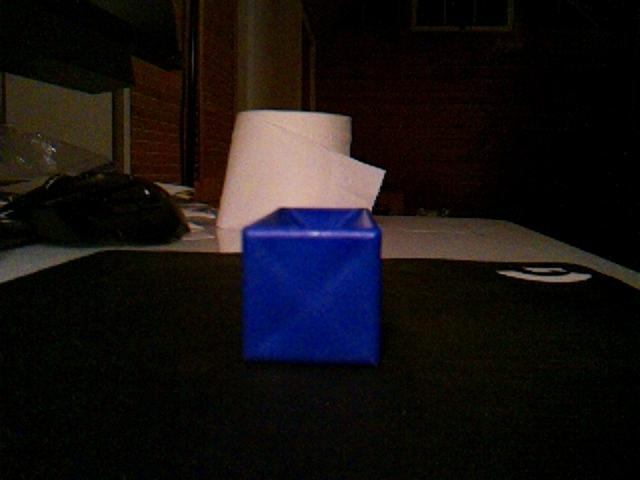blue: (240, 206, 384, 367)
